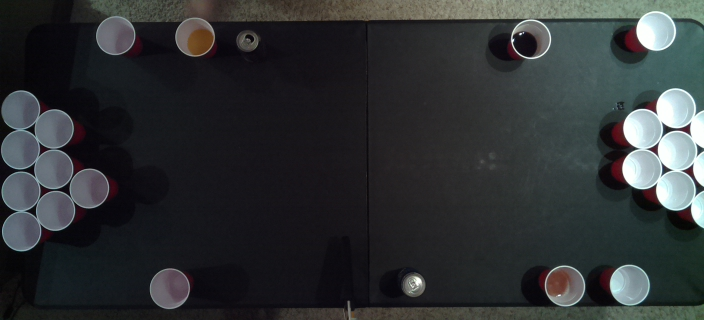active bp cup: (32, 148, 75, 190), (621, 108, 663, 150), (33, 108, 75, 149), (34, 189, 75, 231), (1, 210, 42, 252), (654, 88, 696, 129), (654, 170, 696, 211), (620, 149, 662, 190), (656, 130, 697, 171), (68, 168, 109, 208), (1, 89, 41, 130), (1, 171, 41, 211), (1, 130, 40, 170), (688, 109, 702, 148), (691, 150, 703, 189), (690, 192, 703, 228)
can: (397, 268, 427, 298), (233, 27, 262, 52)
drink cup: (542, 264, 586, 308), (172, 15, 216, 57), (509, 18, 552, 59)
inactive bp cup: (607, 263, 651, 306), (633, 10, 677, 53), (148, 265, 190, 309), (93, 15, 136, 55)
